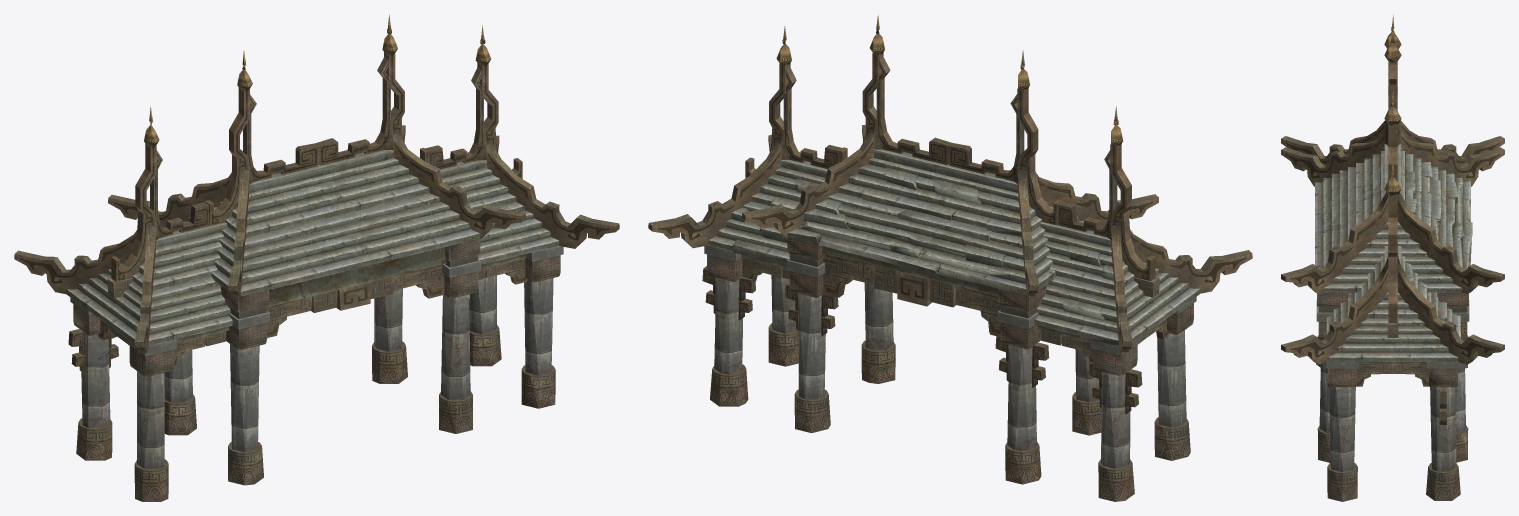
The model's file is bg_anh_mirrorv_gs01_sm_old.FBX.
3 renders of one model, left to right at view 1: azimuth 30°, elevation 25°; view 2: azimuth 150°, elevation 25°; view 3: azimuth 270°, elevation 25°, orthographic. The views are drawn at different scales.
Parts seen in each view (by area): view 1: bg_anh_mirrorv_gs01_sm_old; view 2: bg_anh_mirrorv_gs01_sm_old; view 3: bg_anh_mirrorv_gs01_sm_old.
Part boxes in pixels (x1,y1,x2,y2): bg_anh_mirrorv_gs01_sm_old: [14, 15, 619, 501]; bg_anh_mirrorv_gs01_sm_old: [648, 15, 1252, 501]; bg_anh_mirrorv_gs01_sm_old: [1281, 15, 1504, 501].
Bounding box in the file's own units: 1104 × 859 × 493.
